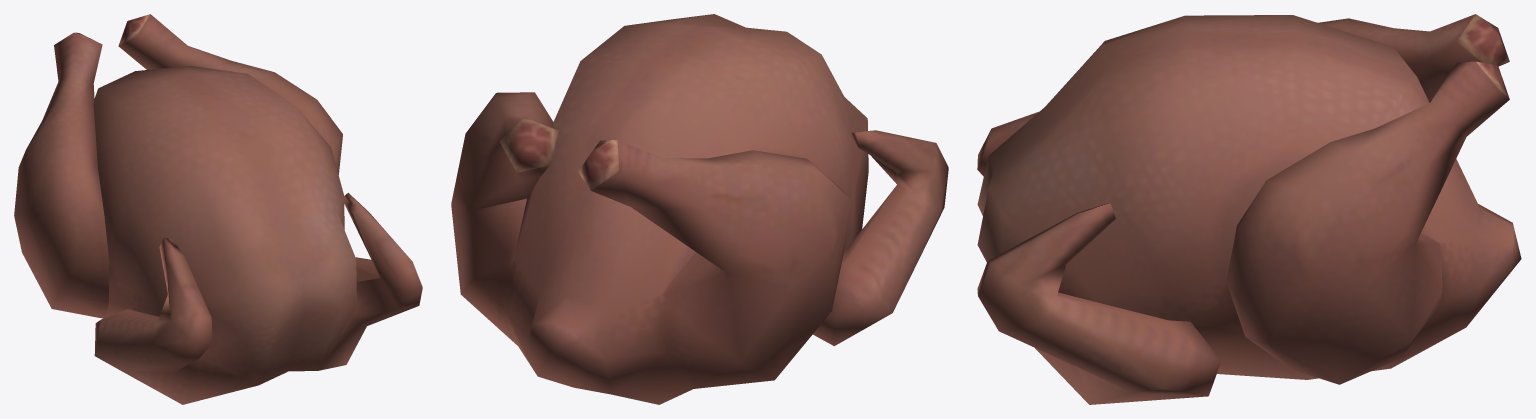
The model's file is Item_Meat_12.glb.
3 views of the same model, side by side, from view 1: azimuth 30°, elevation 25°; view 2: azimuth 150°, elevation 25°; view 3: azimuth 270°, elevation 25° (orthographic). The views are drawn at different scales.
Parts seen in each view (by area): view 1: Item_Meat_12; view 2: Item_Meat_12; view 3: Item_Meat_12.
Boxes of the visible parts, x1,y1,x2,y2 form: Item_Meat_12: (14, 14, 422, 404); Item_Meat_12: (451, 14, 948, 404); Item_Meat_12: (977, 14, 1521, 404).
Bounding box in the file's own units: 0.8022 × 0.6459 × 0.9805.
Materials: 1 (1 with a texture image).
